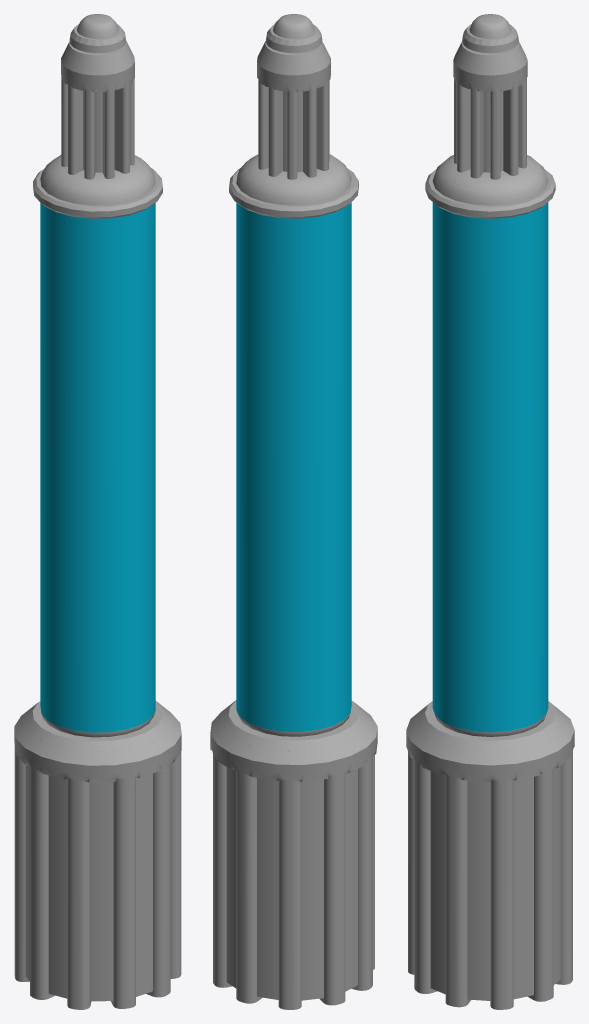
The model's file is reactor_rod.fbx.
The picture shows the model from 3 angles, left to right: view 1: azimuth 30°, elevation 25°; view 2: azimuth 150°, elevation 25°; view 3: azimuth 270°, elevation 25°; orthographic projection.
Parts seen in each view (by area): view 1: rod_part, pump_part; view 2: rod_part, pump_part; view 3: rod_part, pump_part.
Boxes of the visible parts, x1,y1,x2,y2 form: rod_part: (14, 14, 181, 1009); pump_part: (61, 41, 134, 179); rod_part: (210, 14, 377, 1009); pump_part: (257, 41, 330, 179); rod_part: (406, 14, 574, 1009); pump_part: (453, 42, 527, 179).
Bounding box in the file's own units: 0.6853 × 4.3 × 0.6853.
